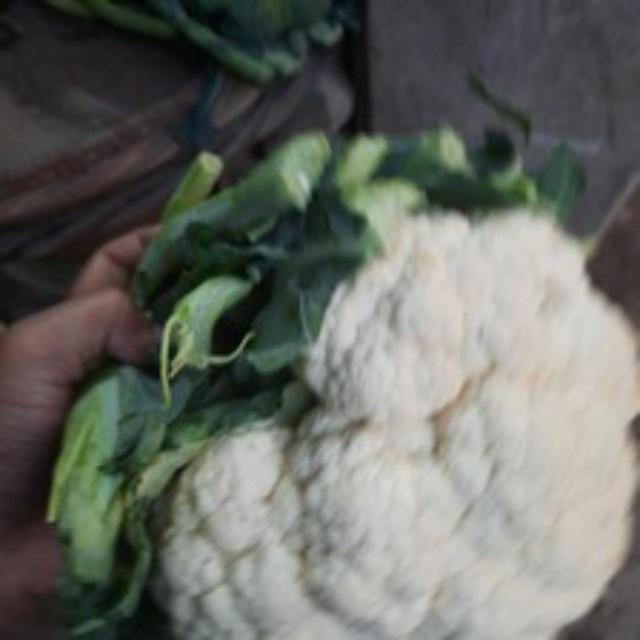cauliflower: (151, 146, 637, 636)
